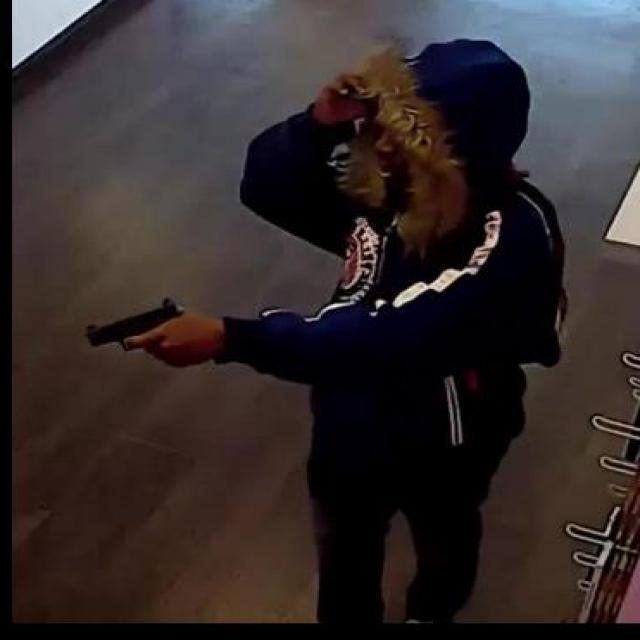Gun: (88, 294, 192, 369)
